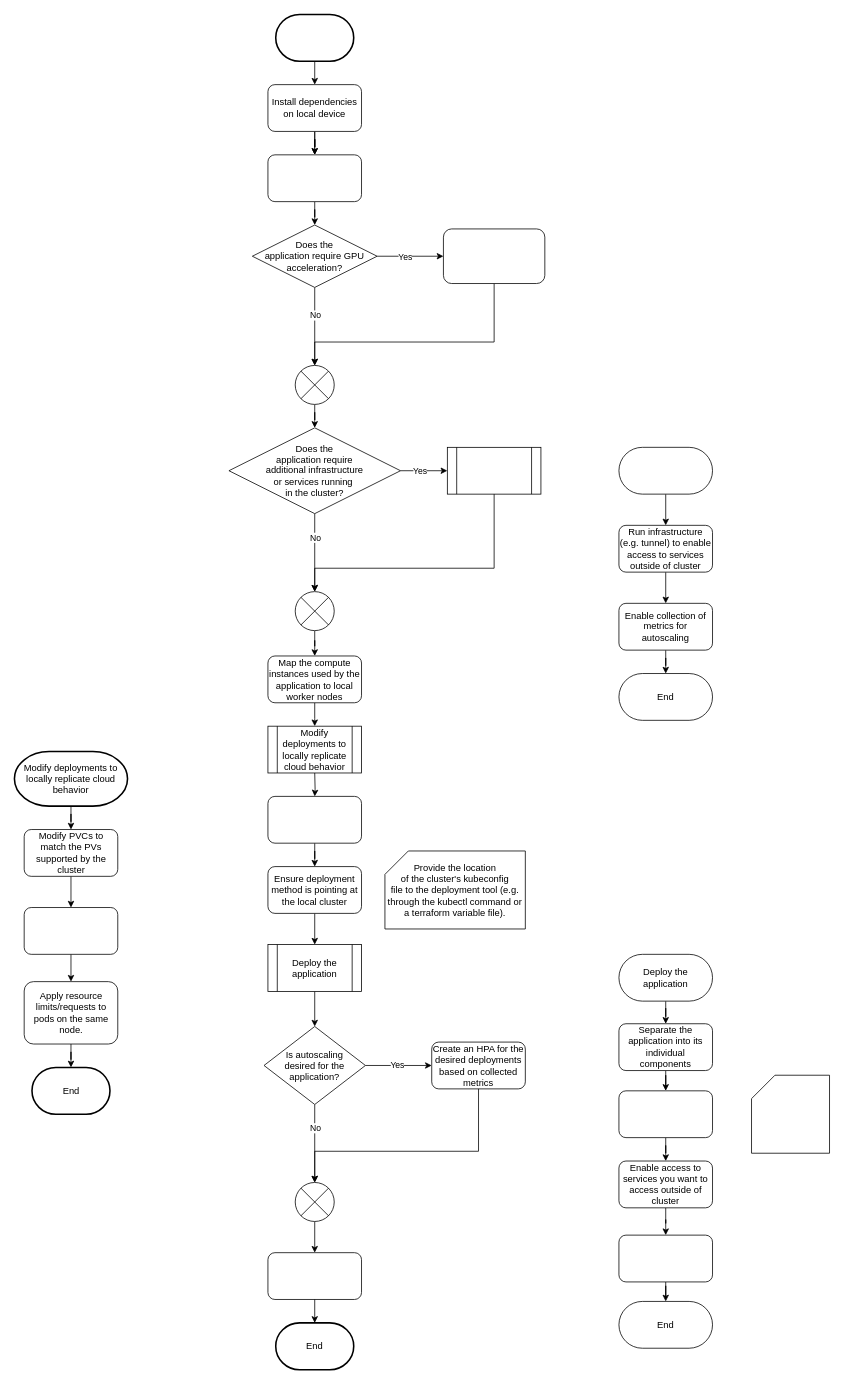
This 843x1384 diagram has some shape labels left out. Each missing label, with the box of its shape:
Access the application through the exposed service: (267, 1252, 362, 1299)
Choose a local k8 provider that works with your architecture: (267, 154, 362, 202)
Deploy the components into the cluster in order: (618, 1234, 713, 1282)
Determine dependency order: (618, 1090, 713, 1138)
Download the necessary drivers and configure the provider to access the GPU(s): (443, 228, 545, 284)
Enable plugins/ deployments to support desired features: (447, 447, 541, 494)
Enable plugins/deployments to support desired features: (618, 447, 713, 494)
Some components might require others to be deployed first.: (751, 1074, 830, 1153)
Start: (275, 13, 354, 62)
Start the cluster: The worker nodes + one additional node for the control plane: (267, 796, 362, 843)
Use Node Selectors to assign each pod to the desired node: (23, 907, 118, 954)
